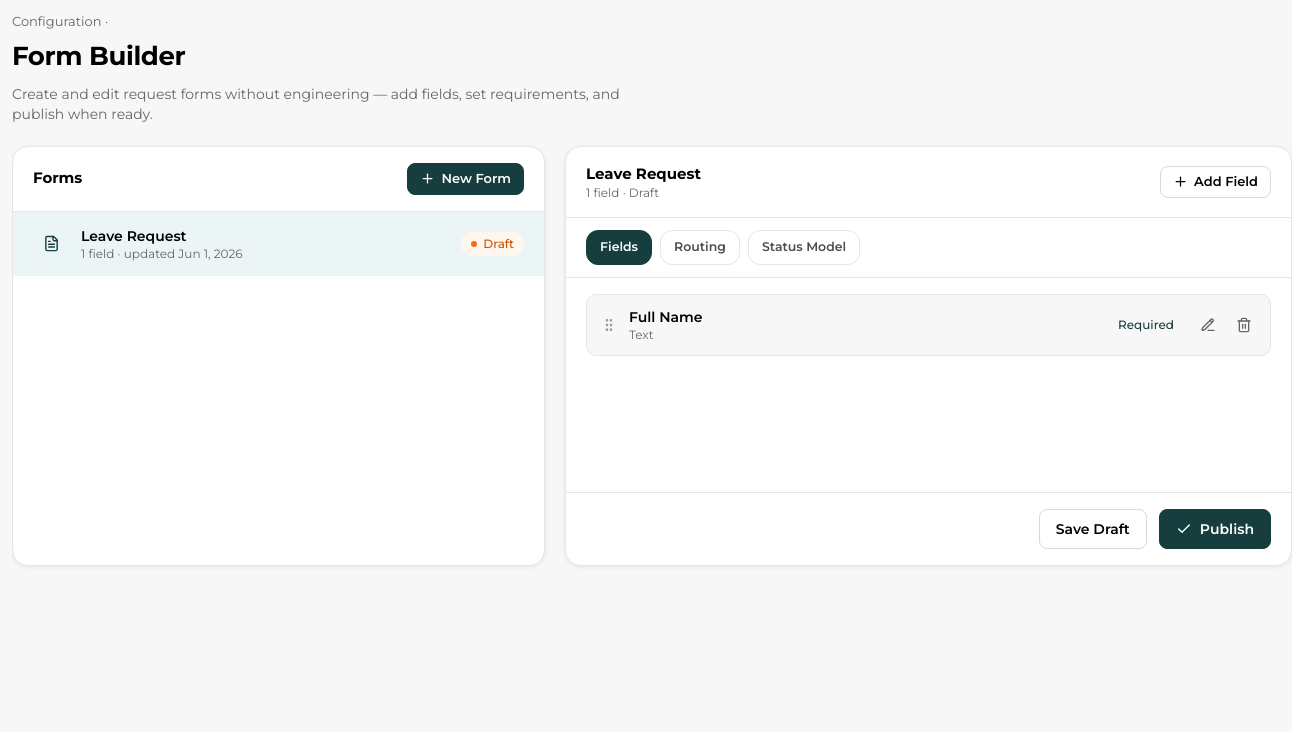
switching tabs shows the Routing and Status Model editors and hides Add Field
Expected: the text "Full Name" is shown, [629,308,703,326]
Click the button "Routing": [700, 247] box [660,230,740,265]
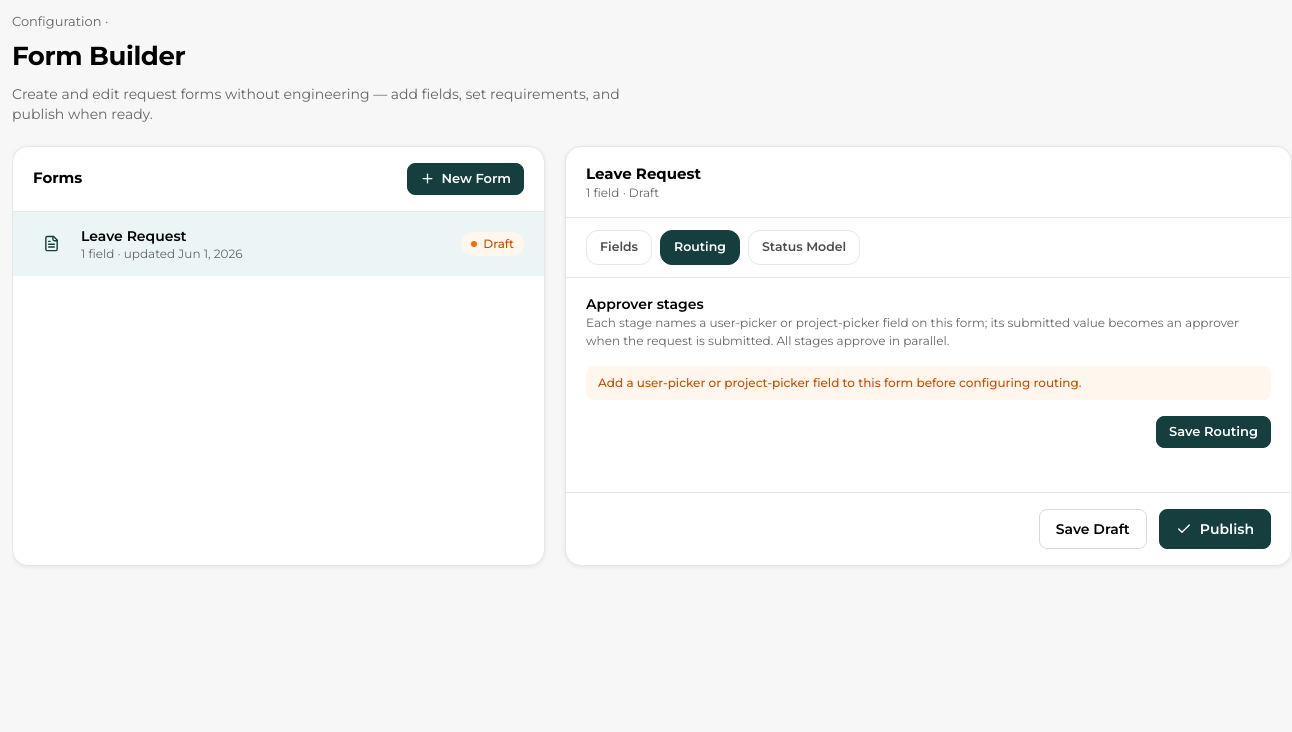
Now the text "Approver stages" is shown, box [586,295,704,313]
Click the button "Status Model": [804, 247] box [748,230,860,265]
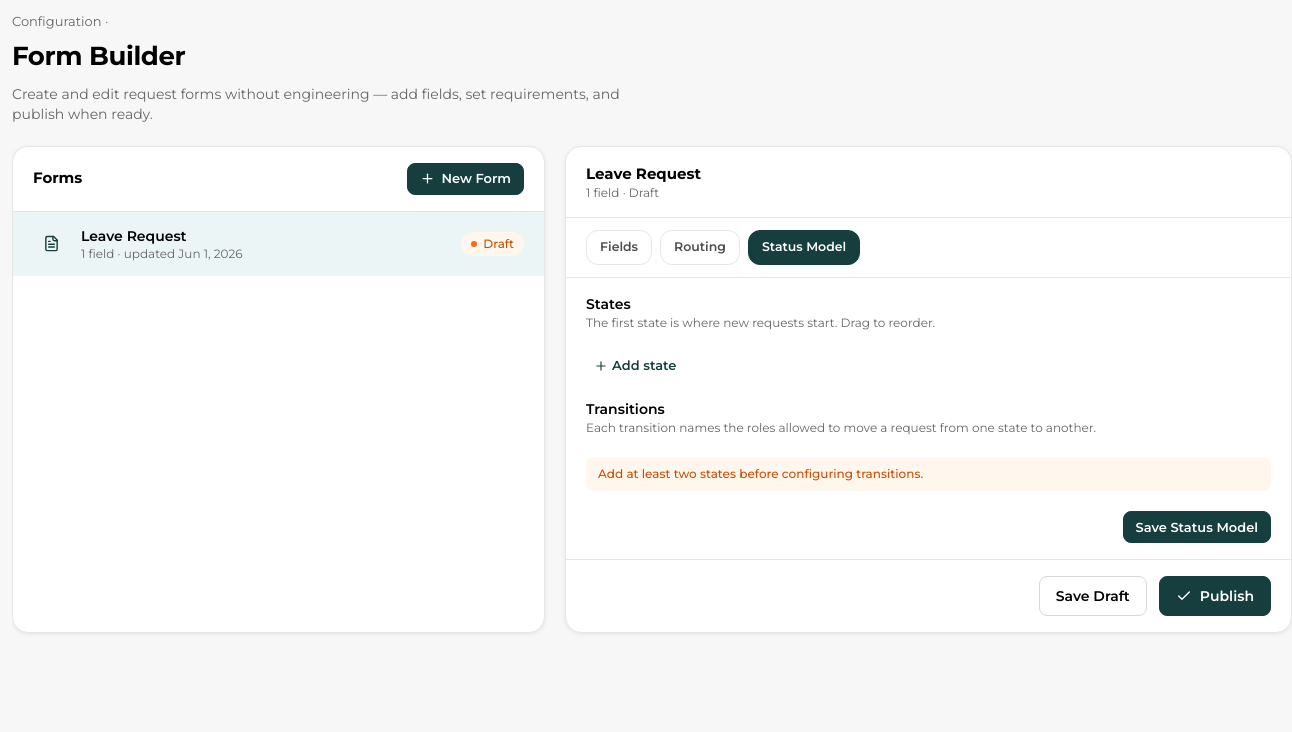
Now the text "States" is shown, box [586,295,631,313]
